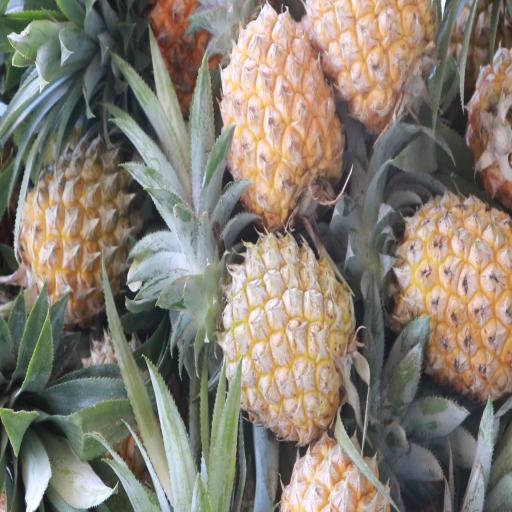------------------------------: (15, 139, 140, 318)
Pineapple - v8 v1: (224, 227, 354, 441), (218, 12, 346, 222), (397, 184, 512, 398), (308, 0, 435, 129)
